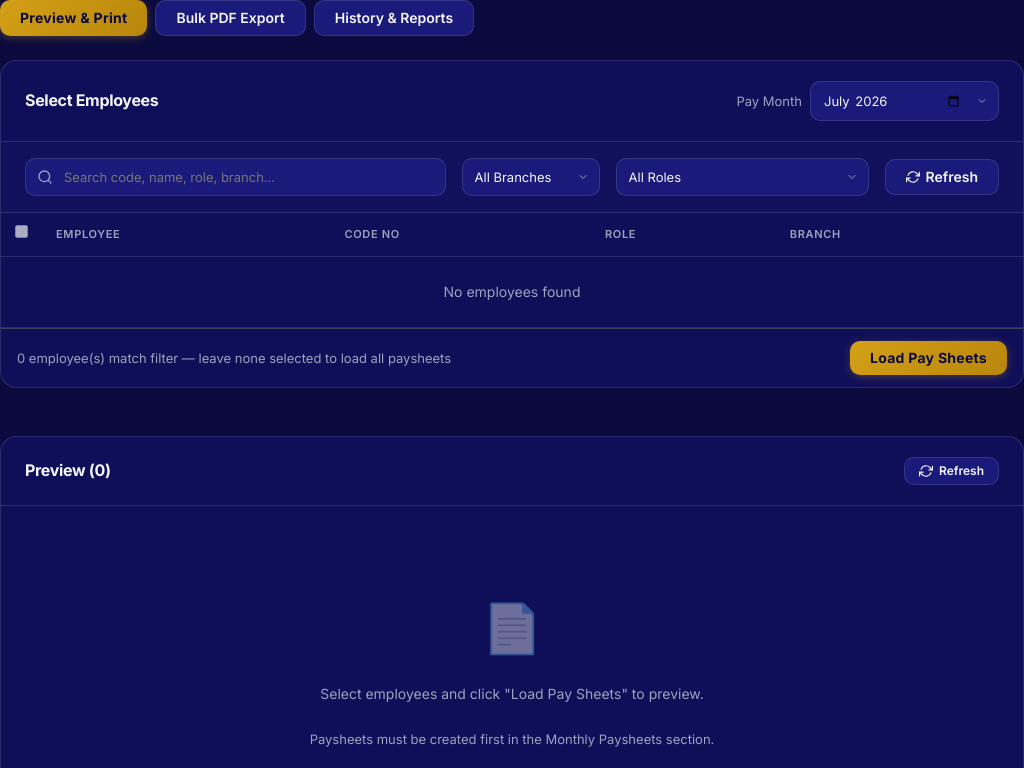
Scenario: Payroll page — history tab › shows empty state when no history
Step 1. Click the button "History & Reports" → (394, 18), box top-left (314, 0), bottom-right (474, 36)
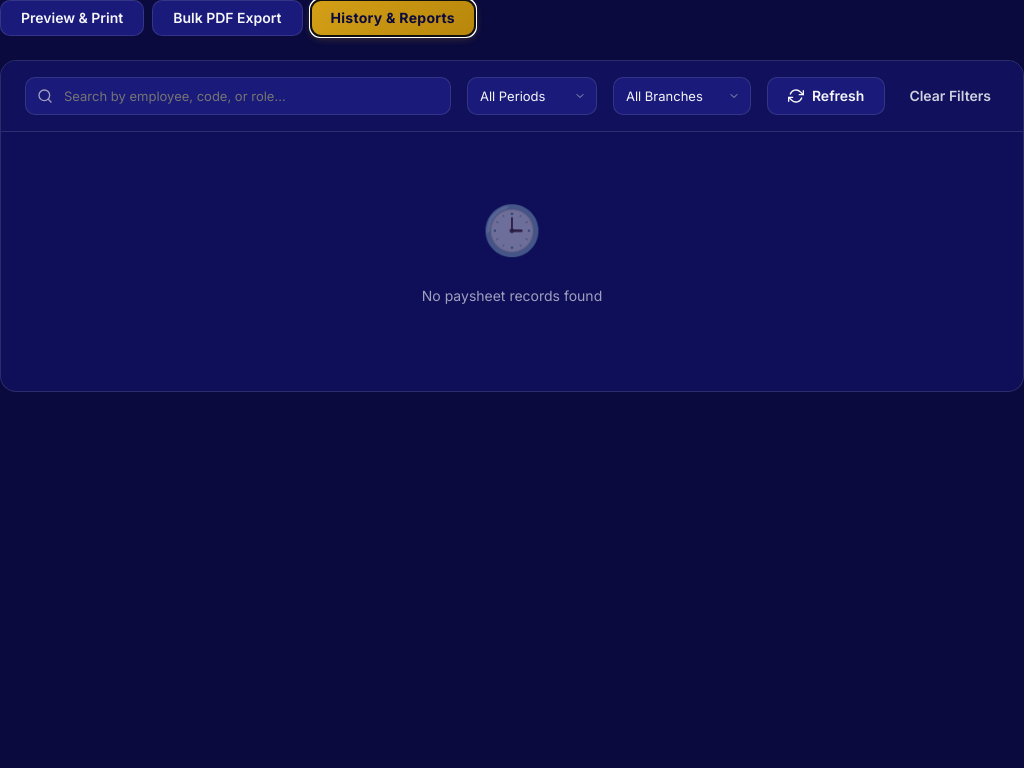
Result: the text "No paysheet records found" is shown at top-left (422, 287), bottom-right (602, 304)
